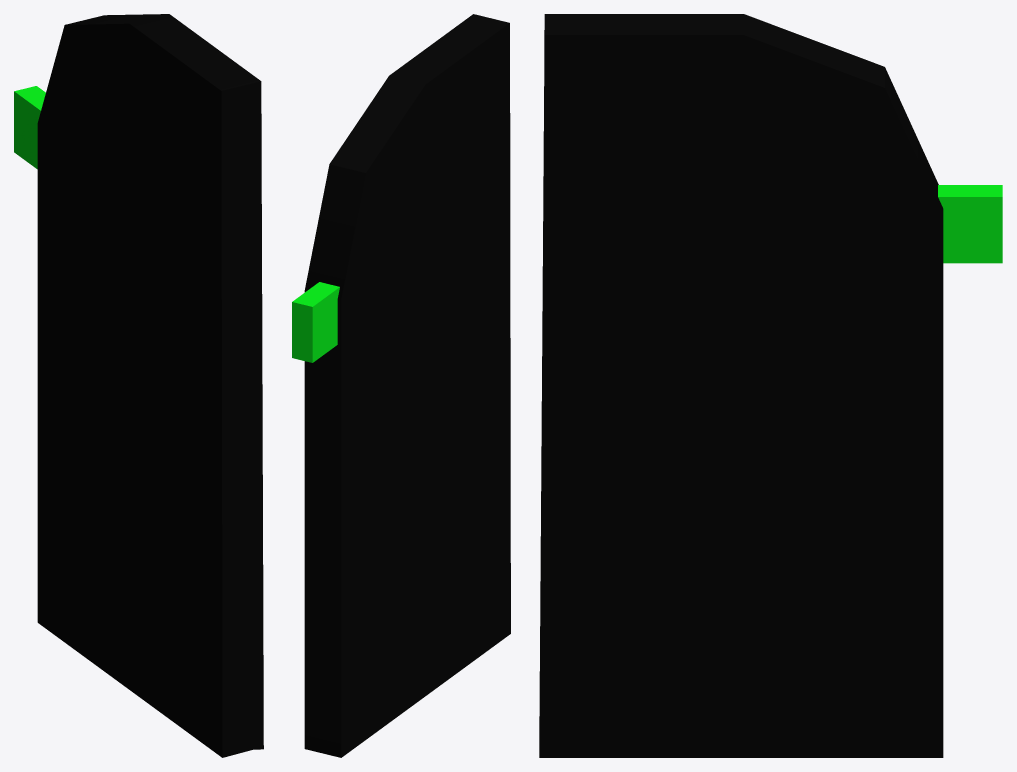
Rendered from Right_Right_Door_1.fbx.
The picture shows the model from 3 angles, left to right: view 1: azimuth 30°, elevation 25°; view 2: azimuth 150°, elevation 25°; view 3: azimuth 270°, elevation 25°; orthographic projection. The views are drawn at different scales.
Visible parts, largest first — view 1: polySurface8; view 2: polySurface8; view 3: polySurface8.
Part boxes in pixels (x1=…): polySurface8: x1=14, y1=14, x2=263, y2=757; polySurface8: x1=292, y1=14, x2=510, y2=757; polySurface8: x1=539, y1=14, x2=1002, y2=757.
Bounding box in the file's own units: 0.2068 × 3.3 × 1.92.
